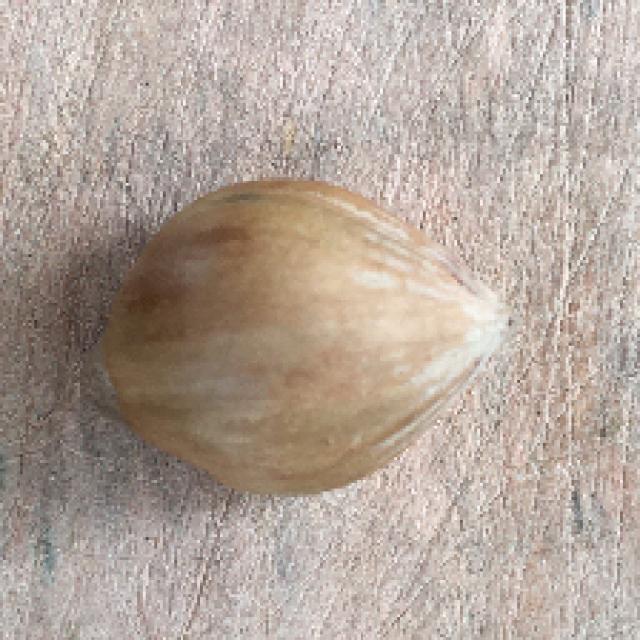DamagedHazelnut: (92, 176, 520, 491)
